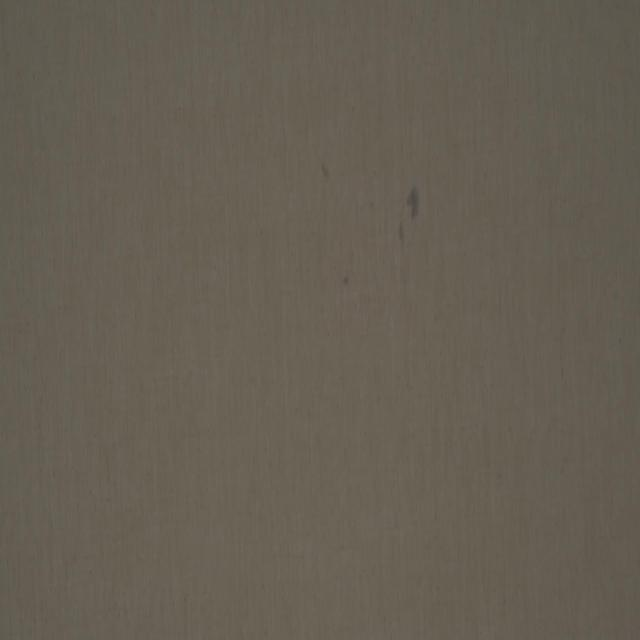dirty: (404, 185, 421, 220), (397, 220, 407, 244), (342, 273, 350, 292), (321, 162, 329, 181)
